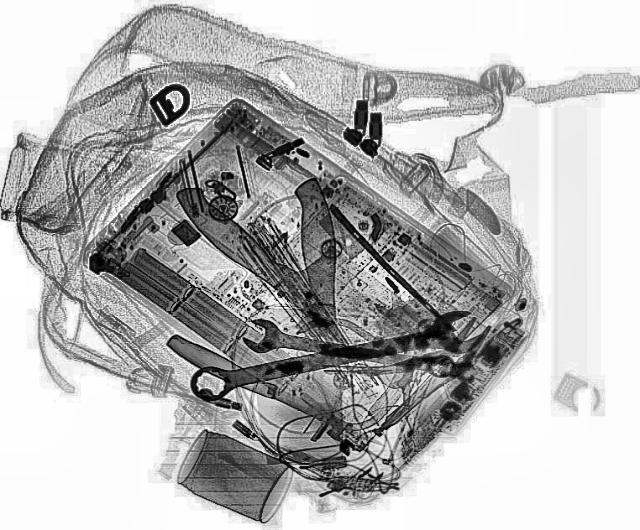Knife: (154, 160, 472, 394), (252, 178, 348, 464)
Wrench: (180, 305, 490, 408), (242, 315, 460, 389)
